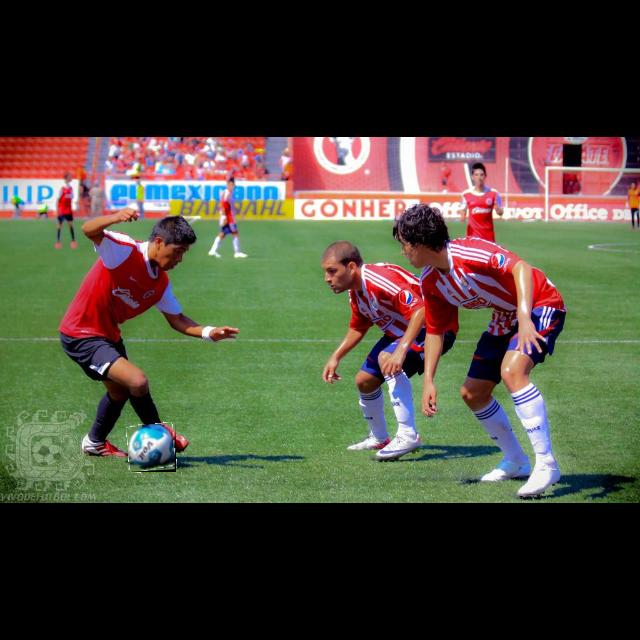Football: (128, 424, 176, 472)
